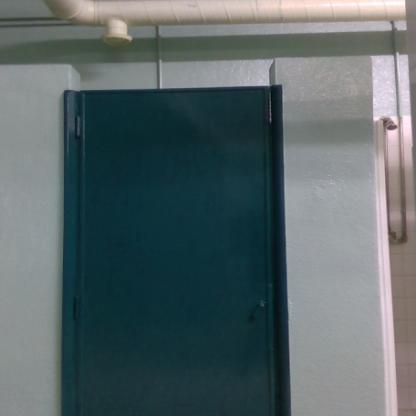door: (80, 95, 276, 416)
hinged: (72, 292, 84, 319), (76, 114, 84, 138)
